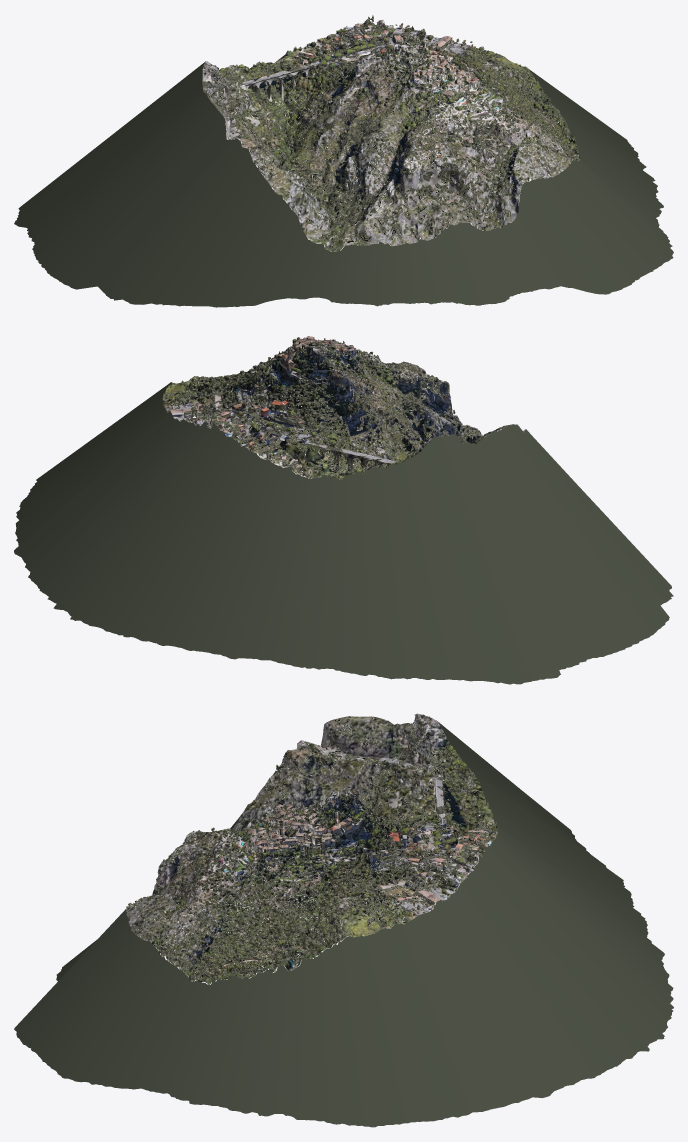
The model's file is far_eze.glb.
The picture shows the model from 3 angles, top to bottom: view 1: azimuth 30°, elevation 25°; view 2: azimuth 150°, elevation 25°; view 3: azimuth 270°, elevation 25°; orthographic projection. The views are drawn at different scales.
Parts seen in each view (by area): view 1: eze; view 2: eze; view 3: eze.
Boxes of the visible parts, <box> form: eze: <box>14,15,673,307</box>; eze: <box>14,336,673,684</box>; eze: <box>14,713,673,1127</box>.
Bounding box in the file's own units: 1151 × 322 × 982.
4 materials, 3 textured.
